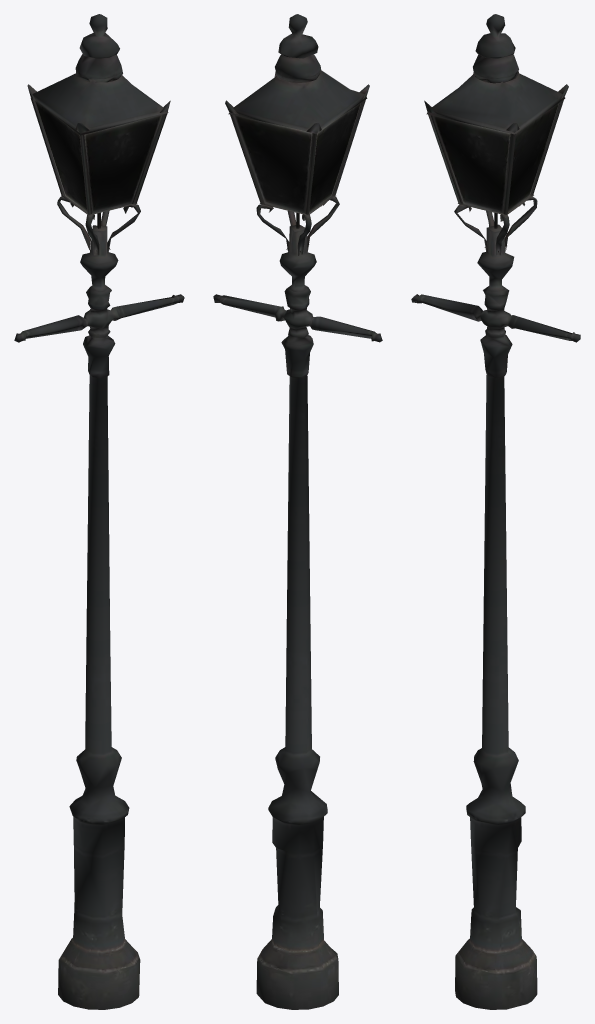
Rendered from street_lamp_01.glb.
The picture shows the model from 3 angles, left to right: view 1: azimuth 30°, elevation 25°; view 2: azimuth 150°, elevation 25°; view 3: azimuth 330°, elevation 25°; orthographic projection.
Parts seen in each view (by area): view 1: street_lamp_01; view 2: street_lamp_01; view 3: street_lamp_01.
Part boxes in pixels (x1,y1,x2,y2): street_lamp_01: (14, 14, 184, 1009); street_lamp_01: (213, 14, 382, 1009); street_lamp_01: (411, 14, 580, 1009).
Bounding box in the file's own units: 0.7026 × 3.87 × 0.3841.
Materials: 2 (2 with a texture image).
